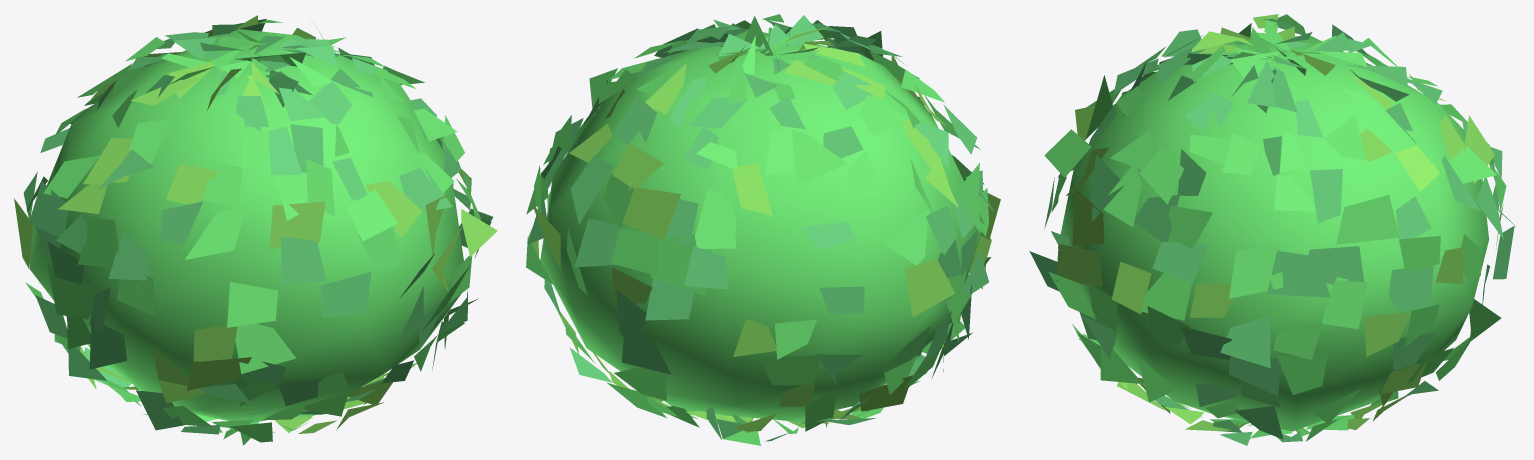
File: Bush.fbx
3 renders of one model, left to right at view 1: azimuth 30°, elevation 25°; view 2: azimuth 150°, elevation 25°; view 3: azimuth 270°, elevation 25°, orthographic.
Parts seen in each view (by area): view 1: Sphere; view 2: Sphere; view 3: Sphere.
Part boxes in pixels (x1=…): Sphere: x1=14, y1=15, x2=497, y2=445; Sphere: x1=526, y1=14, x2=1000, y2=445; Sphere: x1=1029, y1=14, x2=1515, y2=445.
Size of the model in its own units: 271 by 231 by 271.
